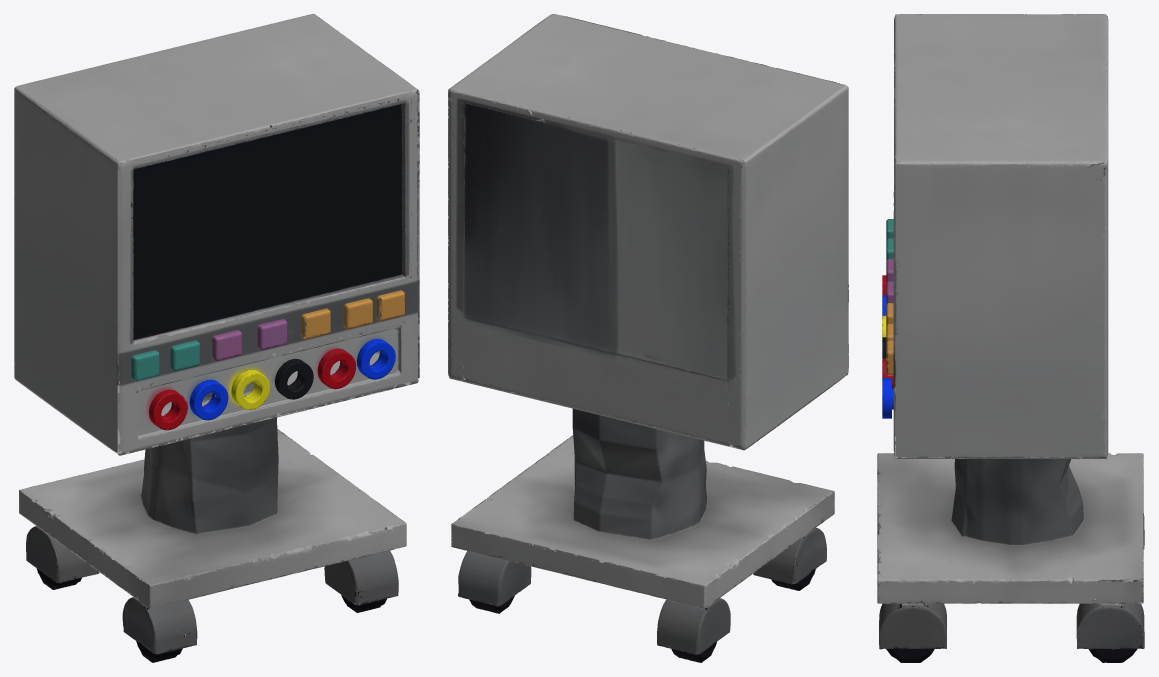
File: ecg-cart.glb
3 views of the same model, side by side, from view 1: azimuth 30°, elevation 25°; view 2: azimuth 150°, elevation 25°; view 3: azimuth 270°, elevation 25° (orthographic). The views are drawn at different scales.
Parts seen in each view (by area): view 1: geometry_0; view 2: geometry_0; view 3: geometry_0.
Boxes of the visible parts, left/top/right/bottom form: geometry_0: left=14, top=14, right=419, bottom=662; geometry_0: left=448, top=14, right=848, bottom=662; geometry_0: left=877, top=14, right=1144, bottom=662.
Size of the model in its own units: 0.6178 by 1 by 0.4666.
Materials: 1 (1 with a texture image).
